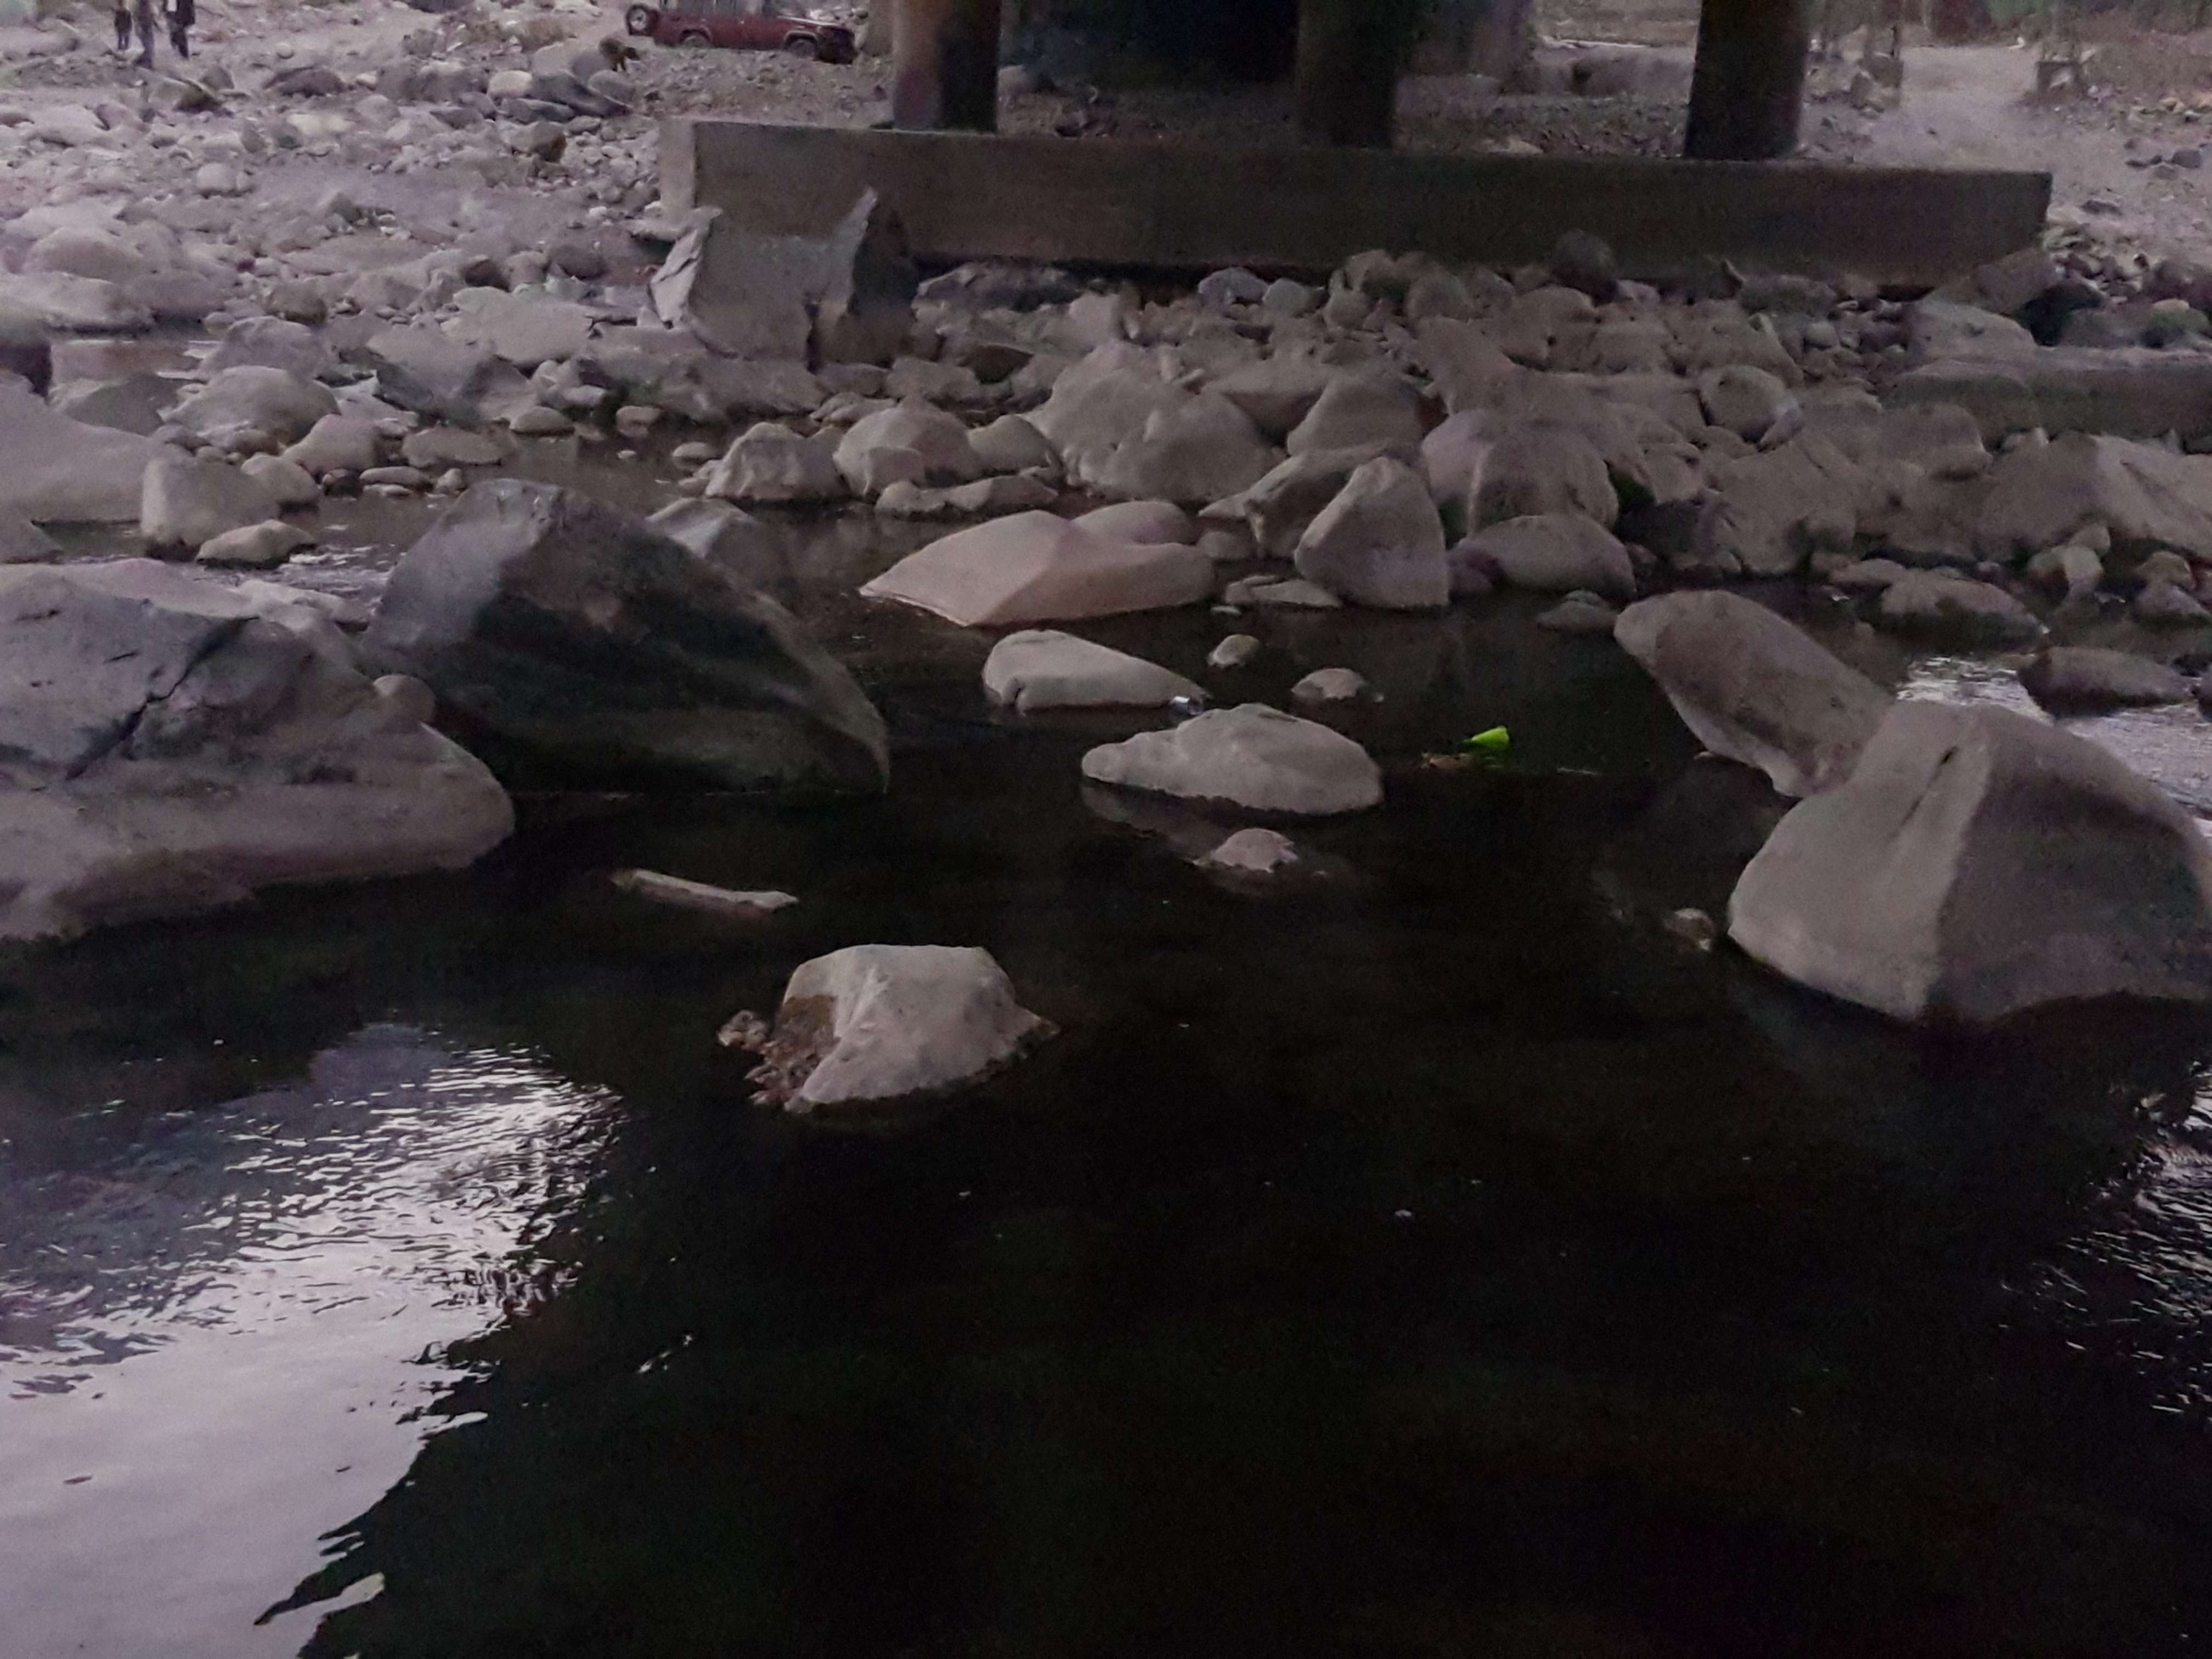Plastic Bottle: (1468, 725, 1508, 744), (1170, 695, 1204, 716)
